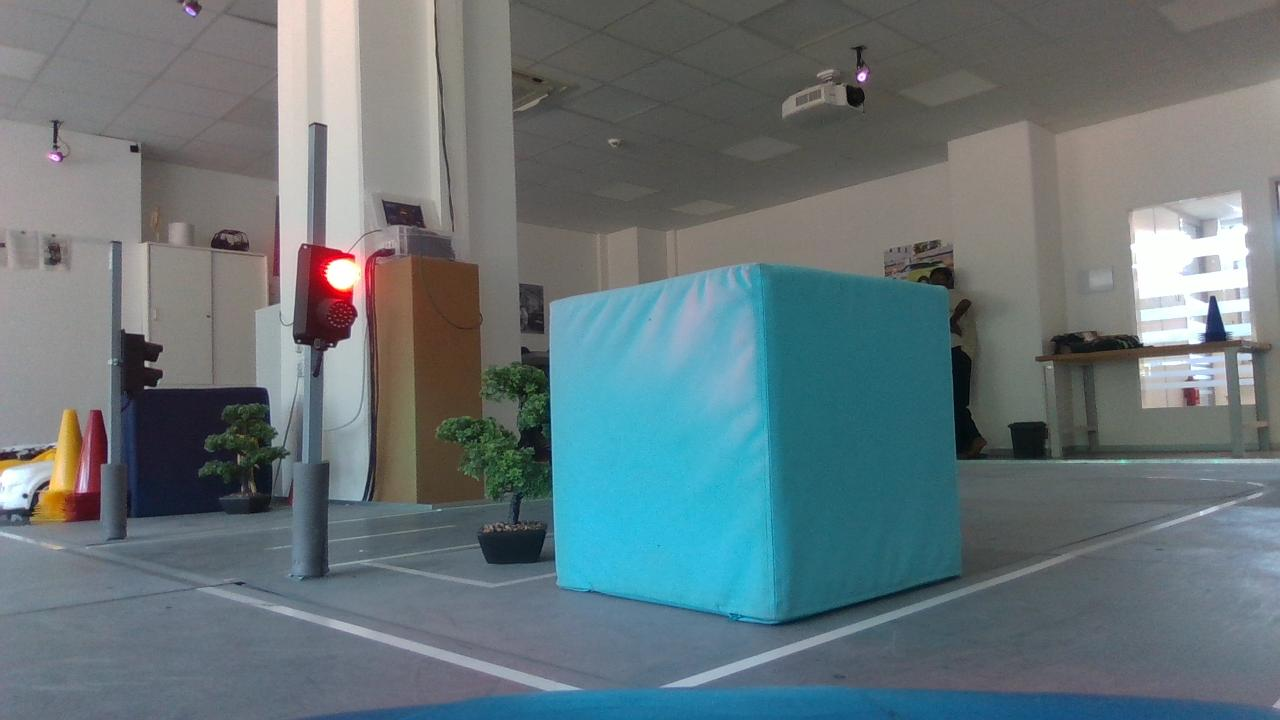traffic_light_red: (271, 230, 377, 365)
